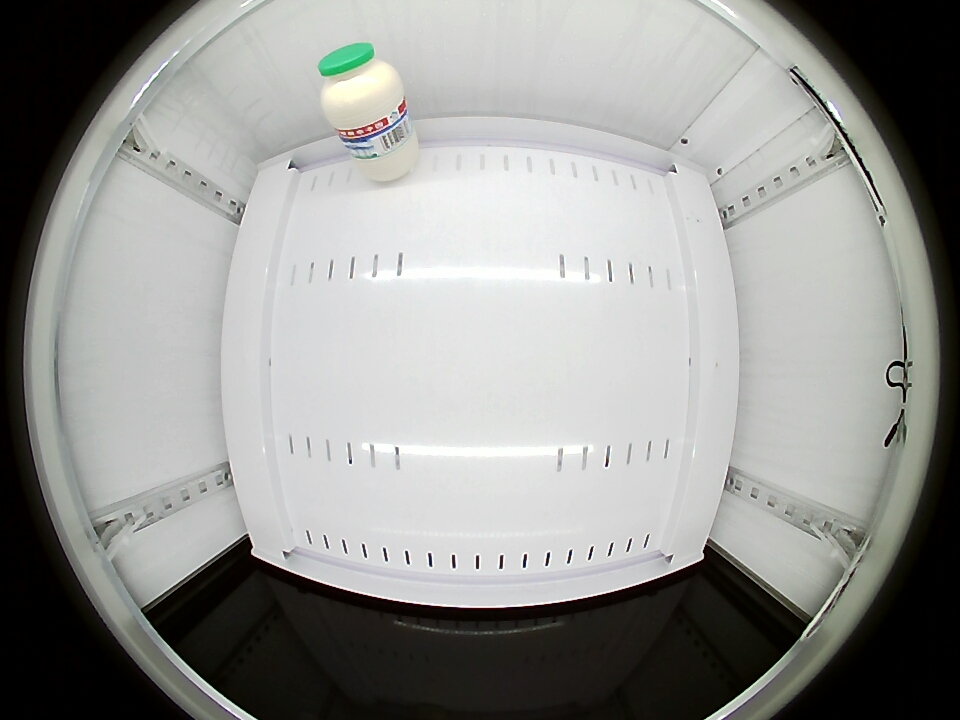liziyuan: (317, 41, 407, 135)
